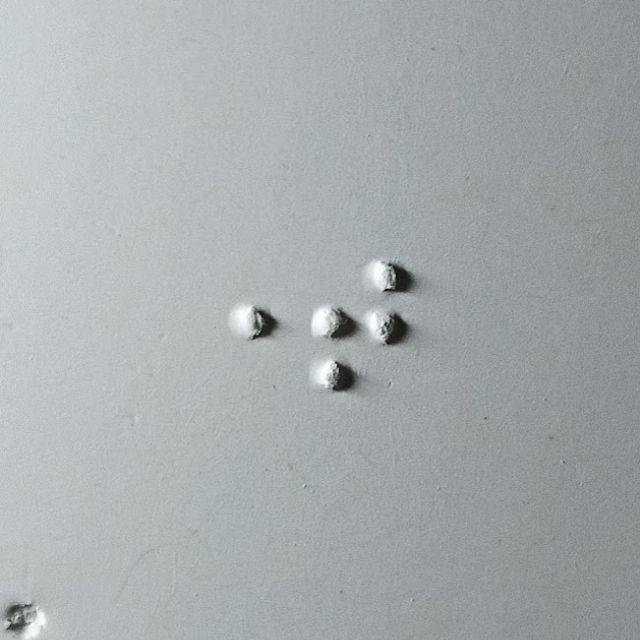dot_5: (180, 260, 280, 393)
talaga: (312, 259, 412, 392)
